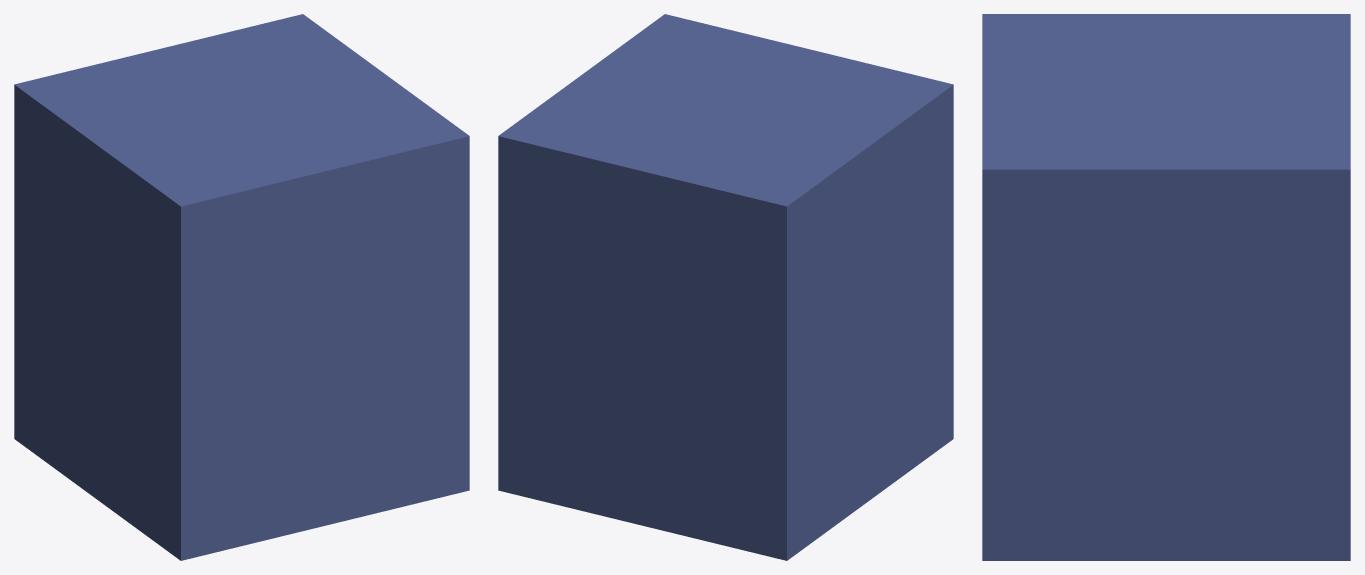
Rendered from kamishimo_manga_sup.glb.
3 views of the same model, side by side, from view 1: azimuth 30°, elevation 25°; view 2: azimuth 150°, elevation 25°; view 3: azimuth 270°, elevation 25° (orthographic). The views are drawn at different scales.
Parts seen in each view (by area): view 1: kamishimo_manga_sup; view 2: kamishimo_manga_sup; view 3: kamishimo_manga_sup.
Boxes of the visible parts, <box> form: kamishimo_manga_sup: <box>14,14,469,560</box>; kamishimo_manga_sup: <box>498,14,953,560</box>; kamishimo_manga_sup: <box>982,14,1350,560</box>.
Size of the model in its own units: 0.29 by 0.34 by 0.29.
